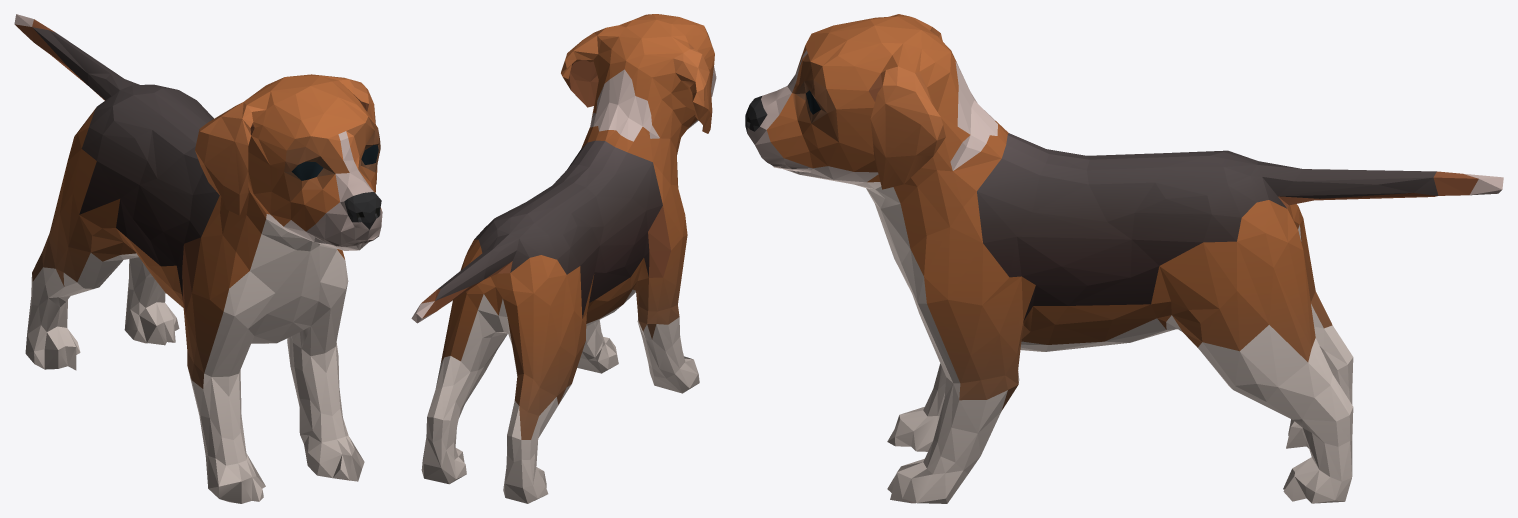
Rendered from beagle.fbx.
3 views of the same model, side by side, from view 1: azimuth 30°, elevation 25°; view 2: azimuth 150°, elevation 25°; view 3: azimuth 270°, elevation 25° (orthographic). The views are drawn at different scales.
Visible parts, largest first — view 1: 24_Puppy_0.2_0_0.004; view 2: 24_Puppy_0.2_0_0.004; view 3: 24_Puppy_0.2_0_0.004.
Part boxes in pixels (box(x1,y1,x2,y2)): 24_Puppy_0.2_0_0.004: box(14, 14, 382, 503); 24_Puppy_0.2_0_0.004: box(411, 14, 716, 503); 24_Puppy_0.2_0_0.004: box(745, 14, 1503, 503).
Bounding box in the file's own units: 0.0981 × 0.3451 × 0.2236.
